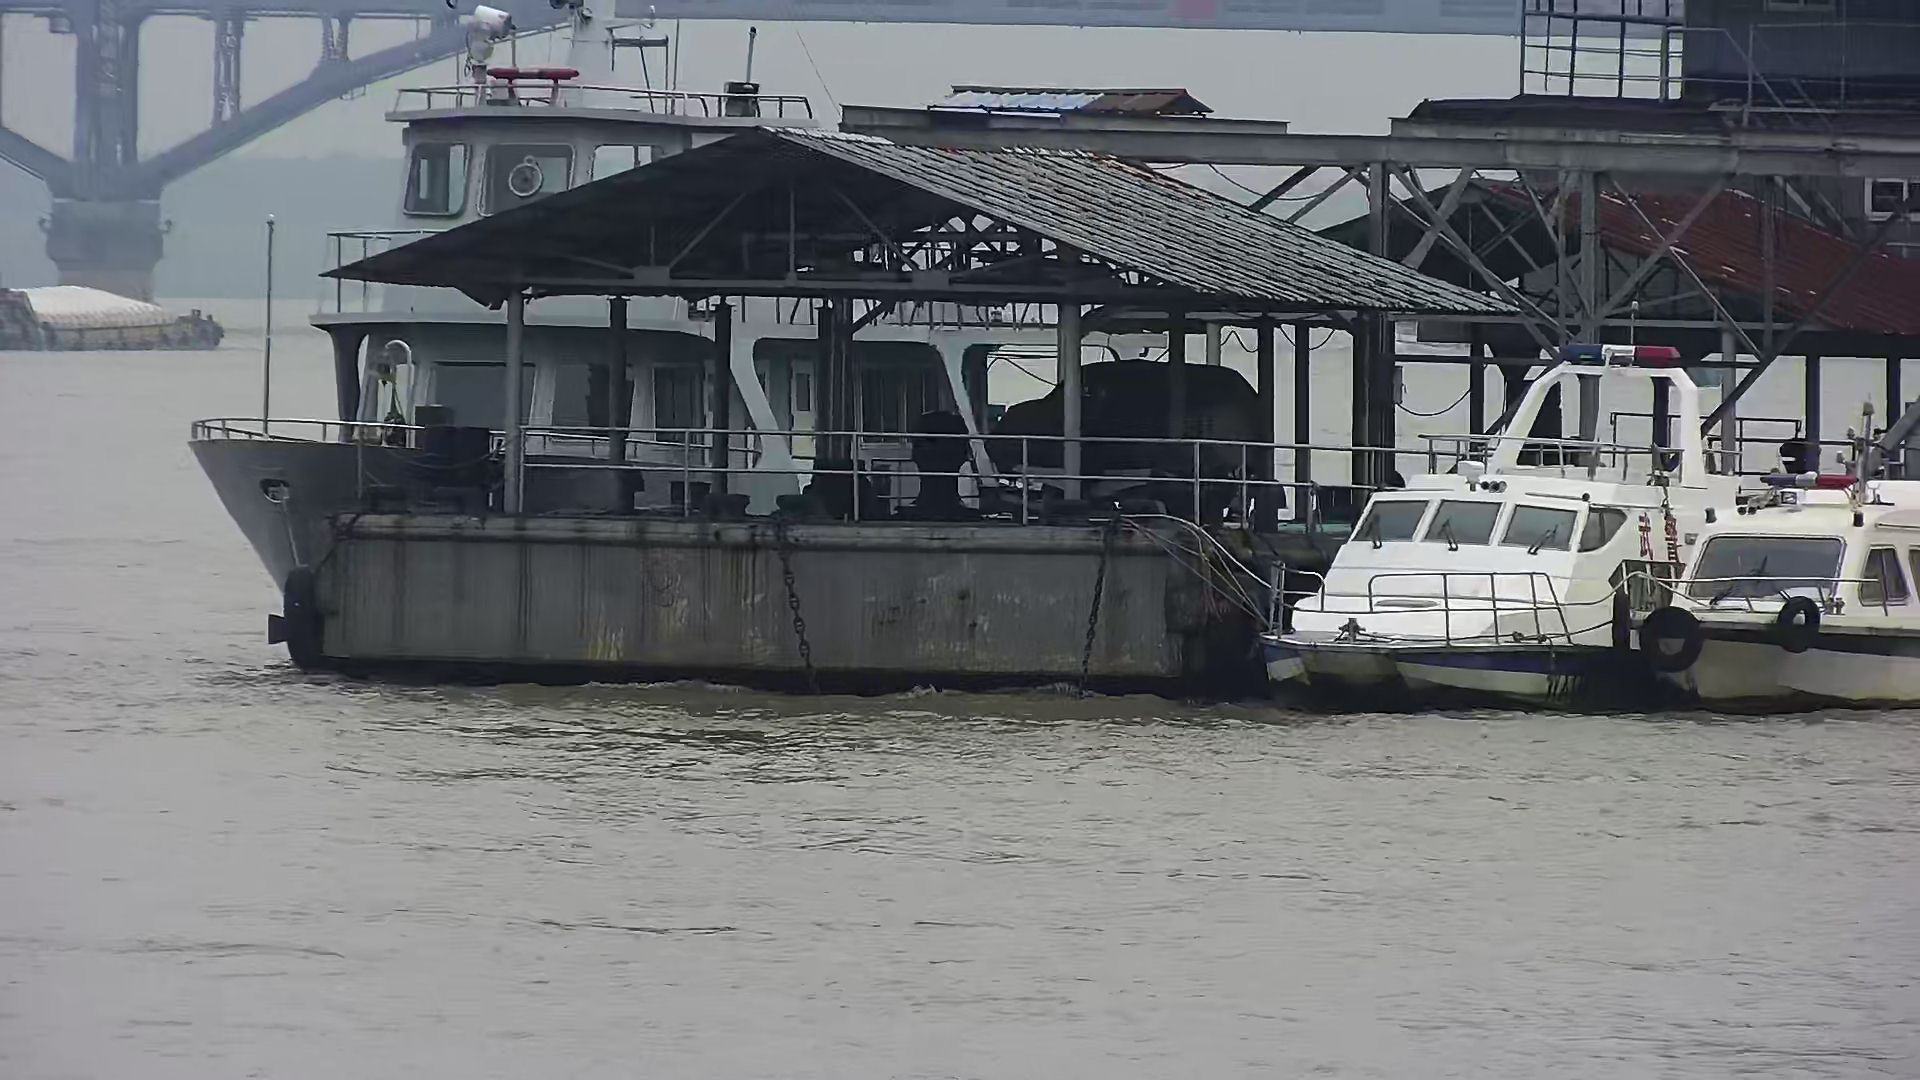boat: (1255, 327, 1770, 709), (1629, 444, 1920, 717)
bridge: (1, 4, 547, 307)
harbor: (261, 123, 1451, 680)
ship: (200, 1, 1204, 622), (1, 274, 248, 361)
